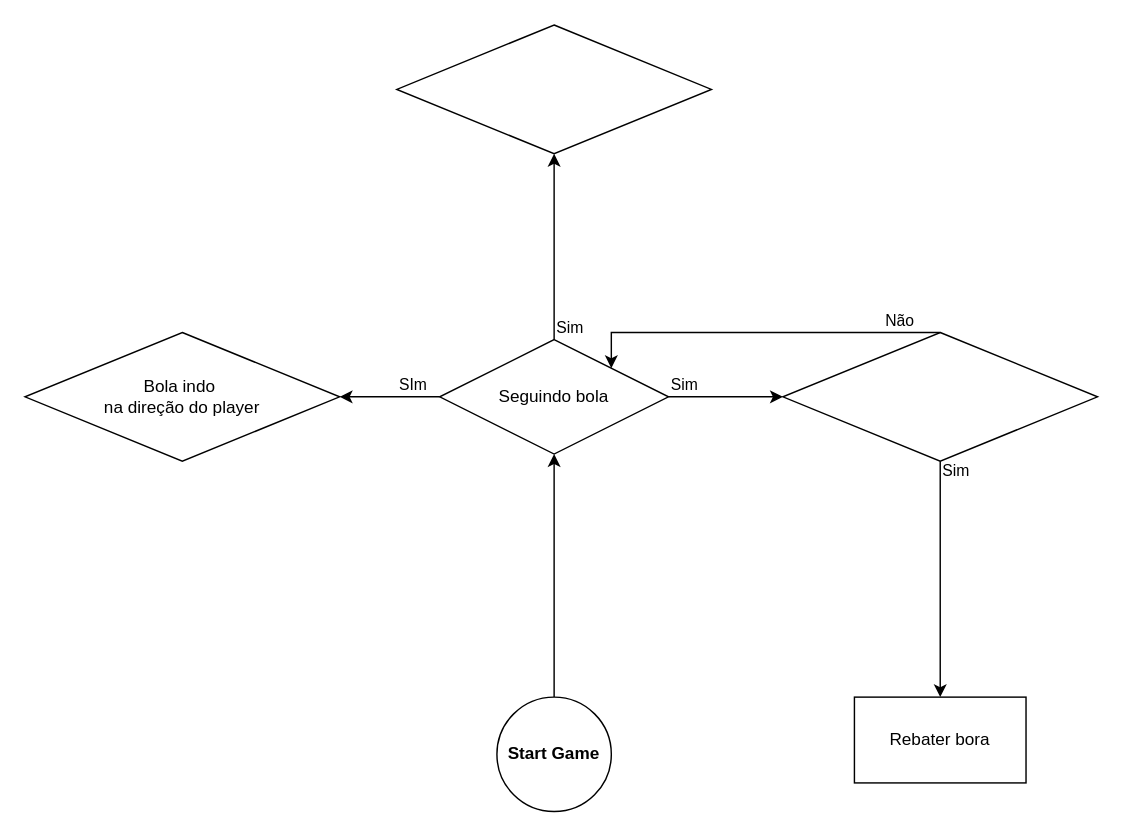
Some shapes in this 1123 by 837 pixel diagram are drawn without their labels. The shapes that lost their labels are listed below. From the top down, each one's centre as x and y in pixels, then its label:
[553,89]: Power-ups indo na direção do inimigo
[939,396]: Bola indo na direção do inimigo
